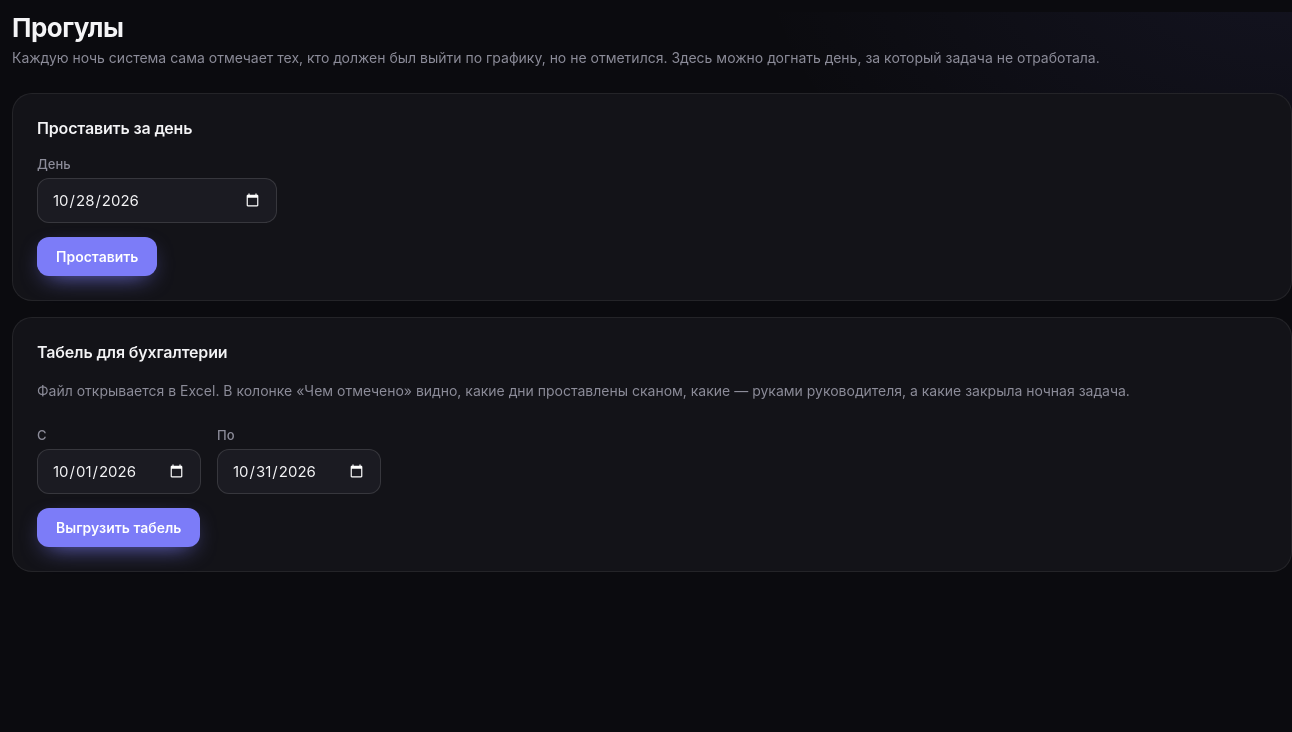
Scenario: прогулы: что показано после запуска › видно, сколько должны были выйти и сколько отмечено
Step 1. Click the button "Проставить" → (97, 257), box 37,237 -> 158,276
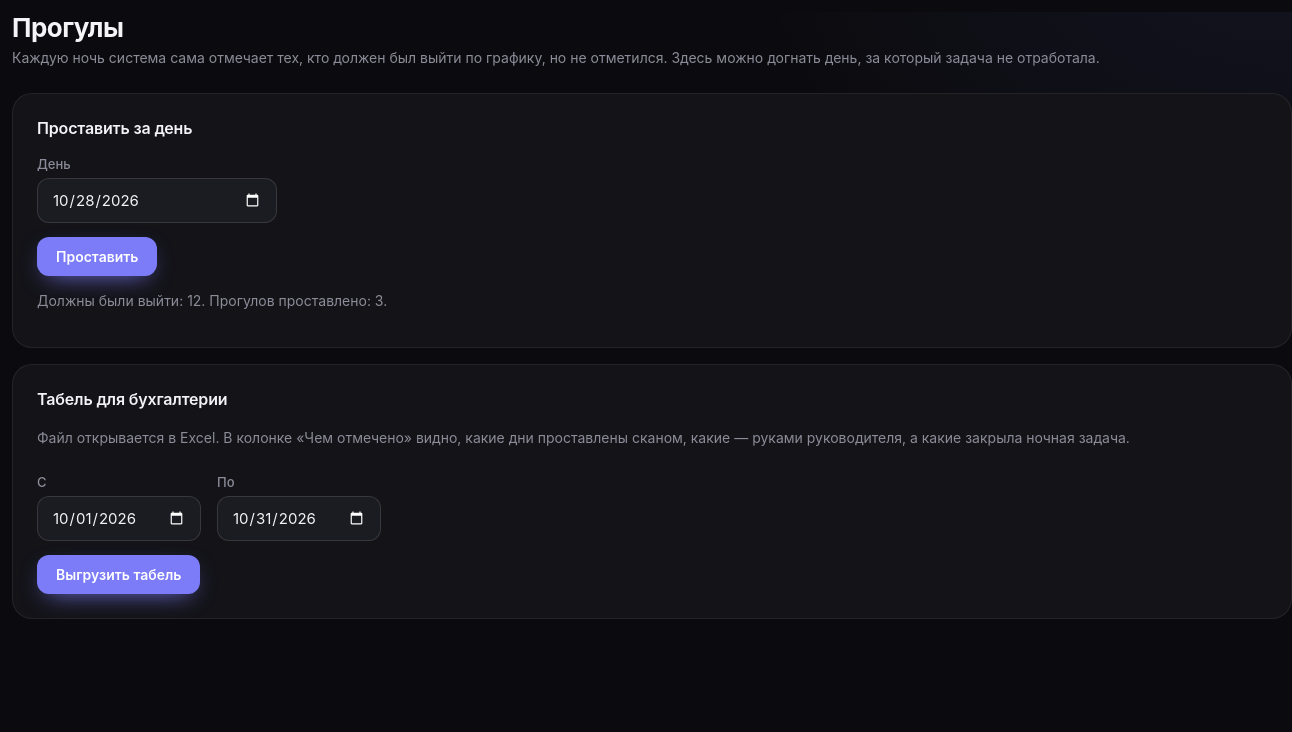
Expected: the text "Должны были выйти: 12. Прогулов проставлено: 3." is shown, 37,292 -> 387,309
